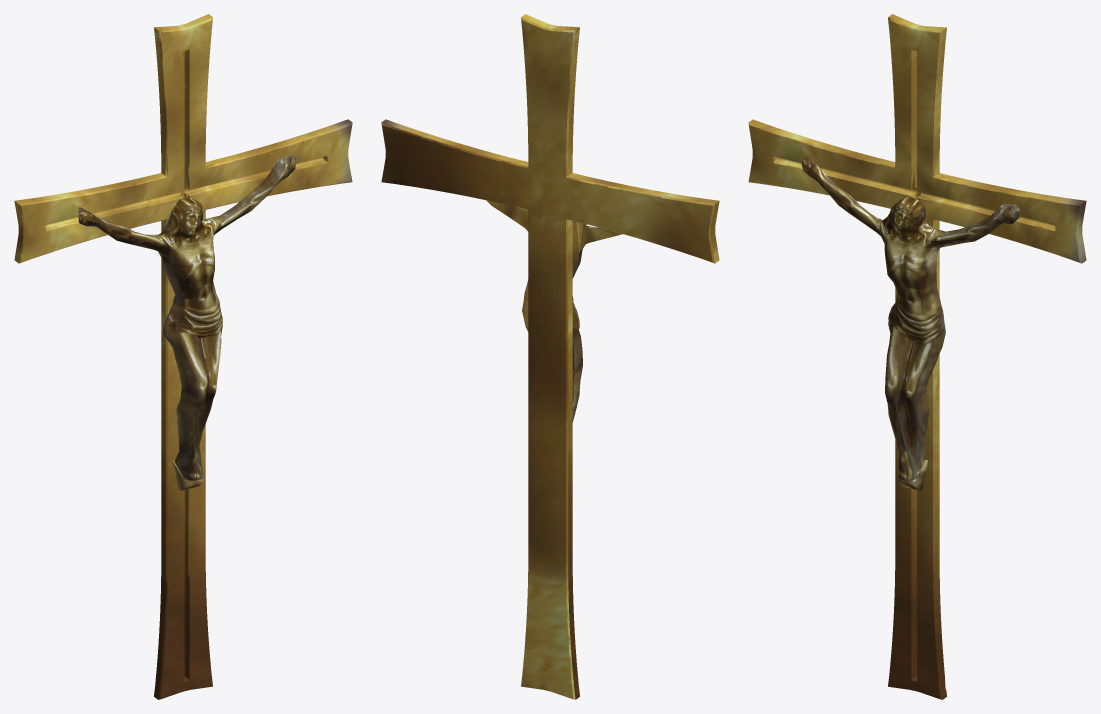
Rendered from Art2441.fbx.
3 views of the same model, side by side, from view 1: azimuth 30°, elevation 25°; view 2: azimuth 150°, elevation 25°; view 3: azimuth 330°, elevation 25° (orthographic).
Visible parts, largest first — view 1: Mesh_3; view 2: Mesh_3; view 3: Mesh_3.
Part boxes in pixels (x1,y1,x2,y2): Mesh_3: [14, 14, 352, 699]; Mesh_3: [381, 14, 719, 699]; Mesh_3: [748, 14, 1086, 699].
Size of the model in its own units: 15.37 by 29.46 by 2.15.
1 material, 1 textured.
